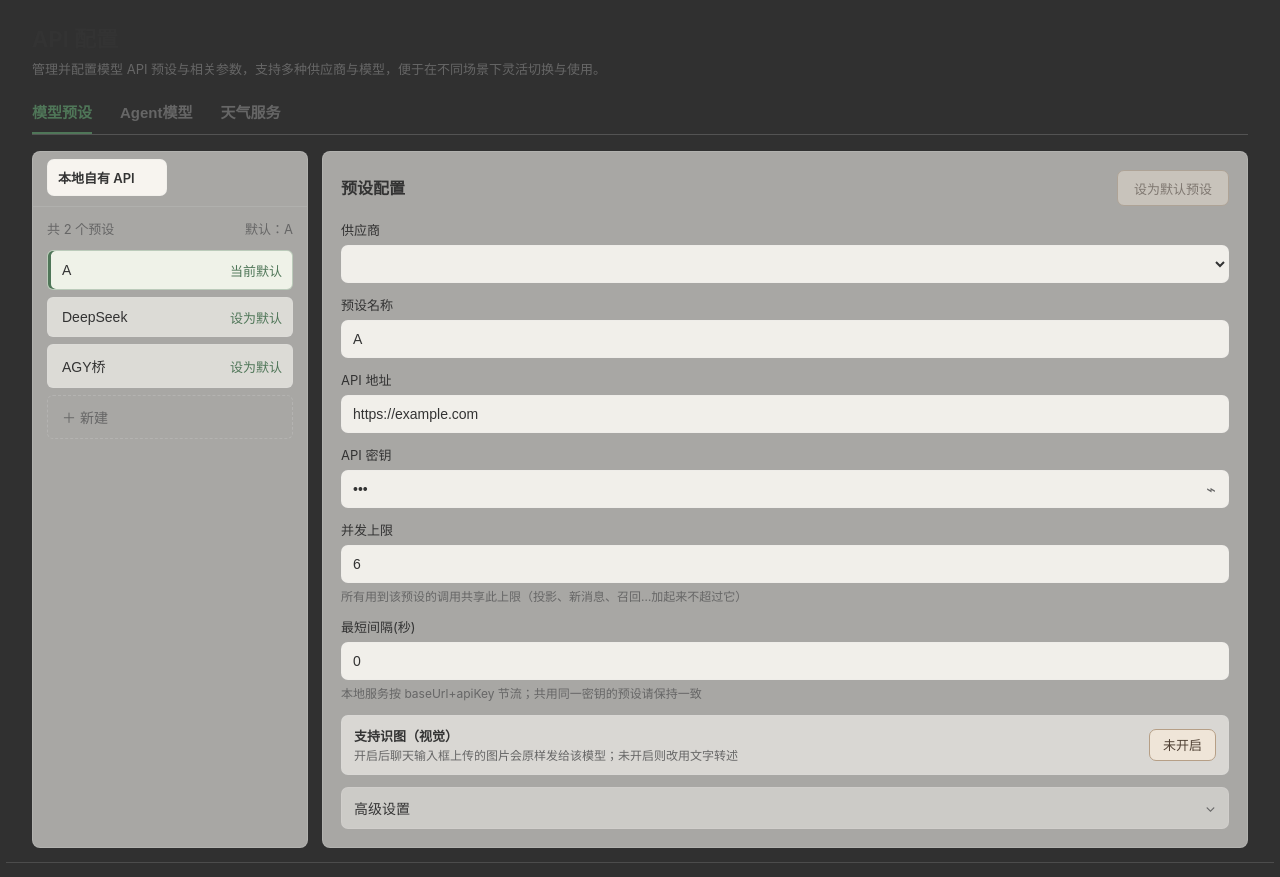
AppApiConfigSection › AGY 参数弹窗不展示温度，也不伪装可回传思考摘要
Click the button with class "api-config-tab" showing "Agent模型".
click(156, 112)  # box [120,89,192,134]
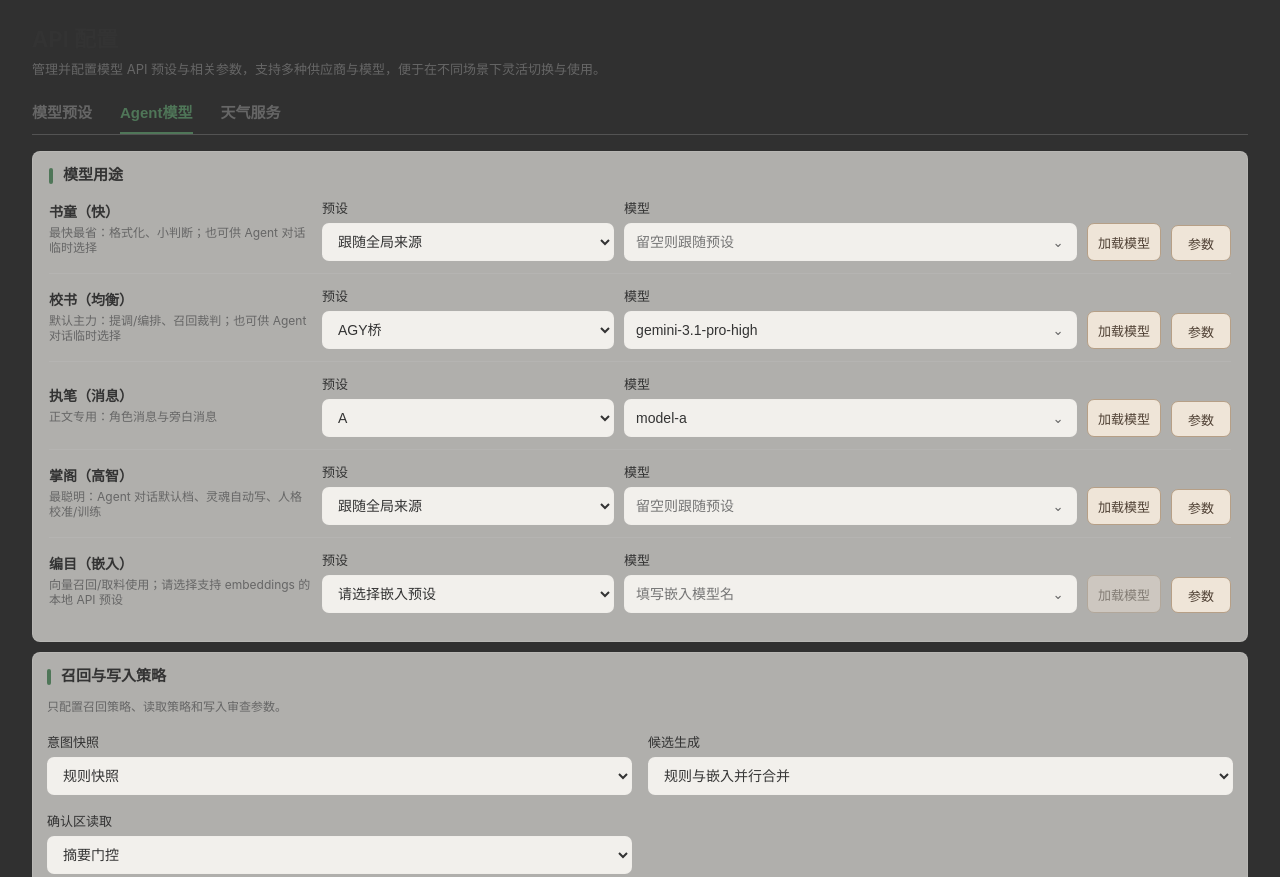
Click the button "参数" in the row of "默认主力：提调/编排、召回裁判；也可供 Agent 对话临时选择".
click(1201, 331)  # box [1171,313,1231,349]
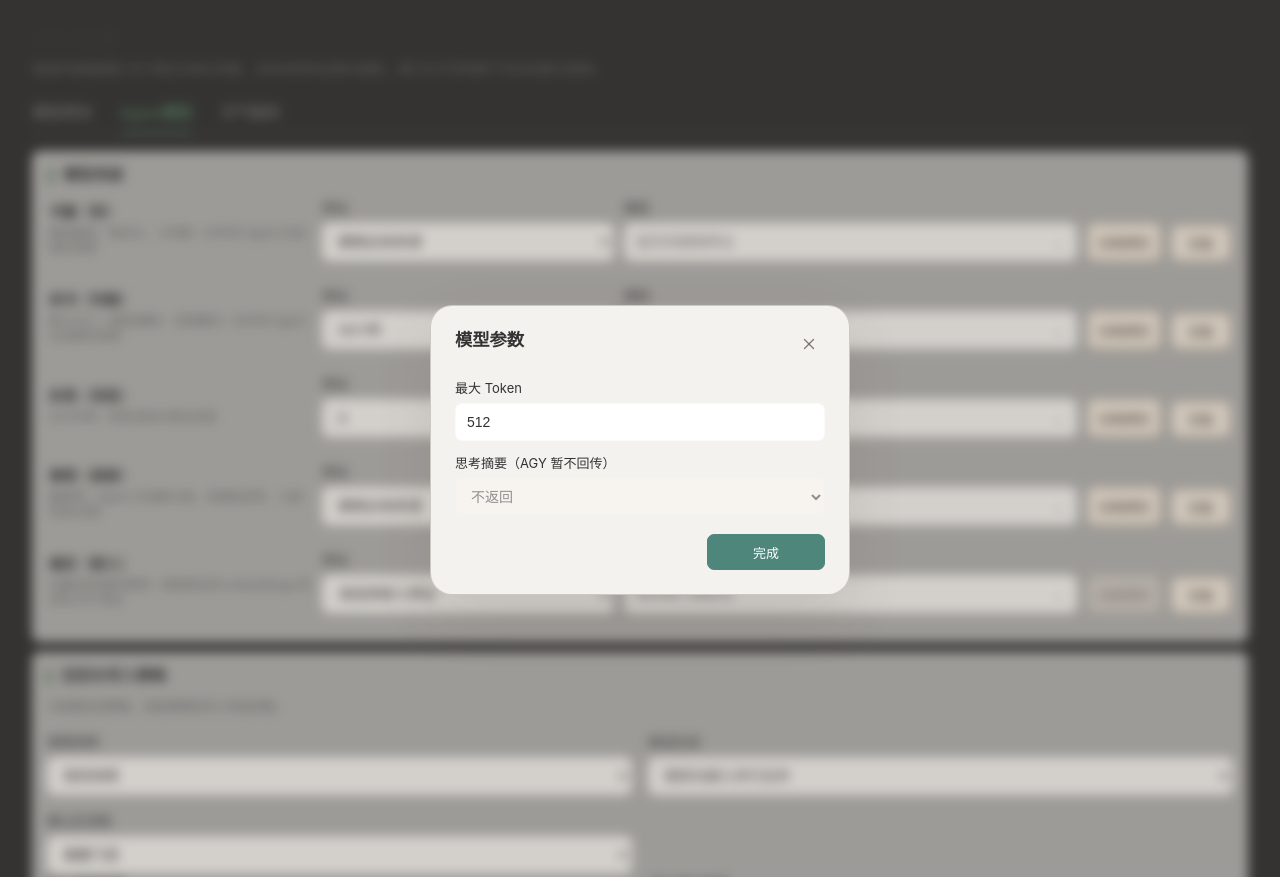
Check: the text "思考摘要（AGY 暂不回传）" is shown, box [455,455,615,471]
Check: the dropdown labelled "思考摘要（AGY 暂不回传）" is disabled, box [455,478,825,516]
Check: the dropdown labelled "思考摘要（AGY 暂不回传）" shows "不返回", box [455,478,825,516]
